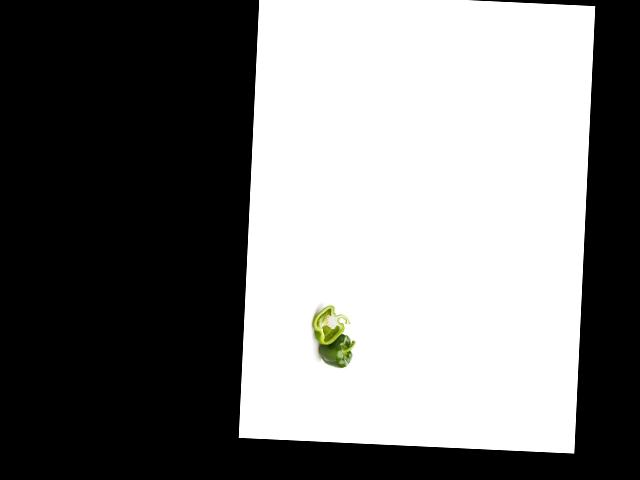bell_pepper: (312, 302, 352, 347)
